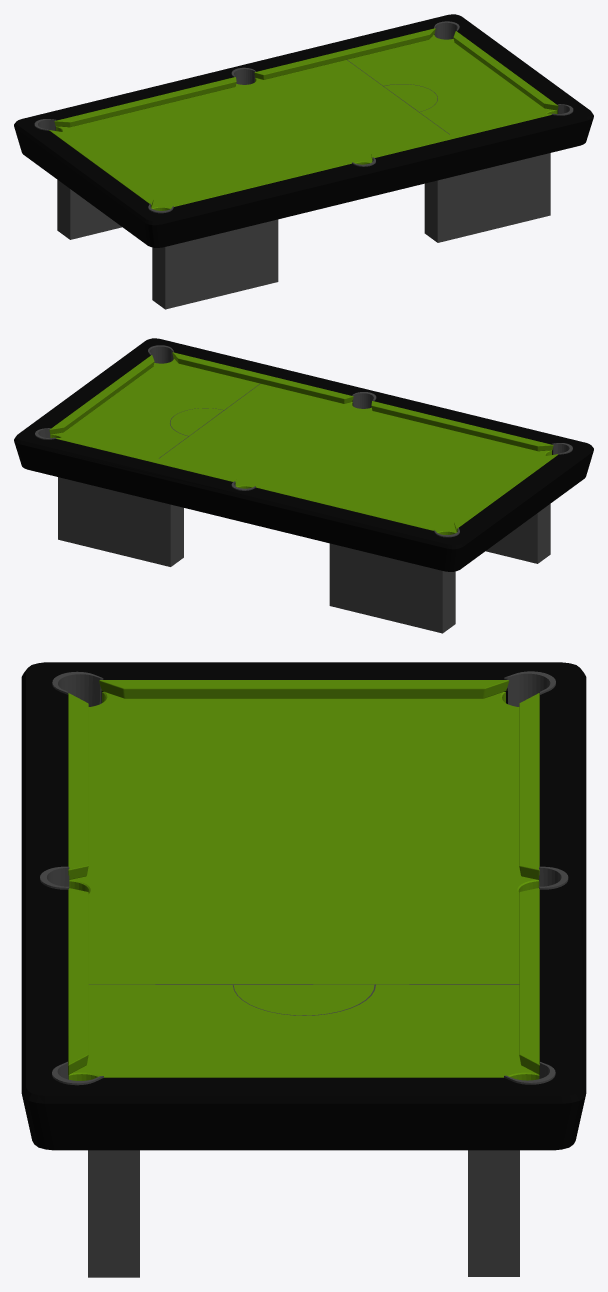
3 renders of one model, top to bottom at view 1: azimuth 30°, elevation 25°; view 2: azimuth 150°, elevation 25°; view 3: azimuth 270°, elevation 25°, orthographic. The views are drawn at different scales.
Parts seen in each view (by area): view 1: overlay, border, legs, edges, holes; view 2: overlay, border, legs, edges, holes; view 3: overlay, border, edges, legs, holes.
Boxes of the visible parts, x1,y1,x2,y2 form: overlay: [56, 34, 557, 210]; border: [14, 14, 593, 247]; legs: [57, 153, 550, 309]; edges: [49, 28, 558, 207]; holes: [34, 21, 573, 213]; overlay: [50, 358, 551, 534]; border: [14, 338, 593, 571]; legs: [58, 477, 550, 633]; edges: [49, 352, 557, 532]; holes: [35, 345, 572, 537]; overlay: [68, 692, 539, 1080]; border: [21, 662, 586, 1150]; edges: [68, 680, 539, 1077]; legs: [88, 1150, 519, 1277]; holes: [40, 671, 568, 1085].
Size of the model in its own units: 6.78 by 1.54 by 3.7.
